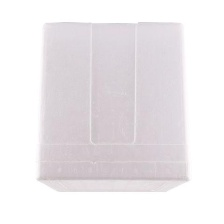foam_box: (29, 17, 193, 199)
